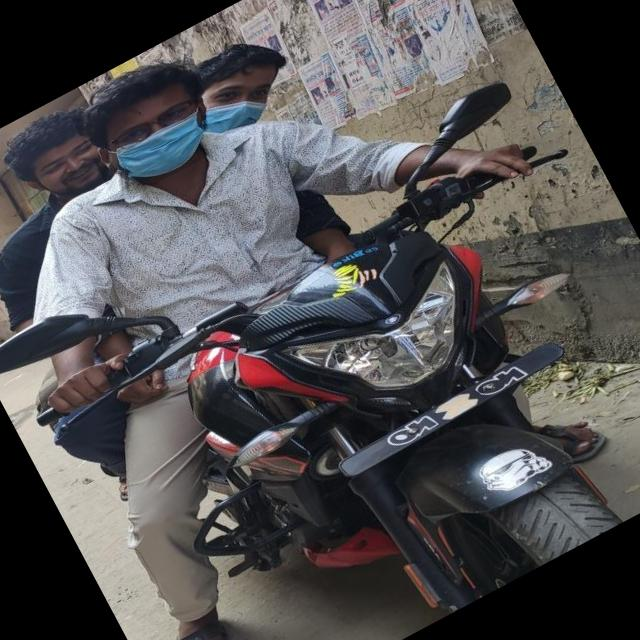without helmet: (70, 56, 232, 204)
